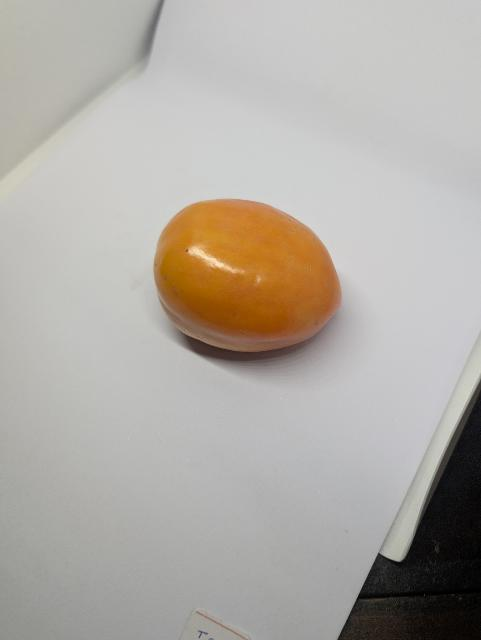turning: (151, 192, 356, 370)
